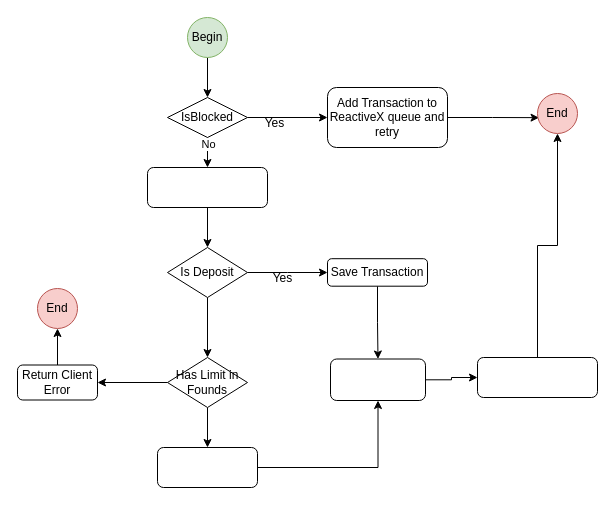
The diagram is 615 pixels wide and 506 high, and some of its shapes have lost their labels. The centre of each missing label's shape, as x and y in pixels:
"Block Account" goes at [207,187].
"Check and Update to negative number" goes at [207,467].
"Save Transaction to database" goes at [378,379].
"Unlock Account" goes at [537,377].
